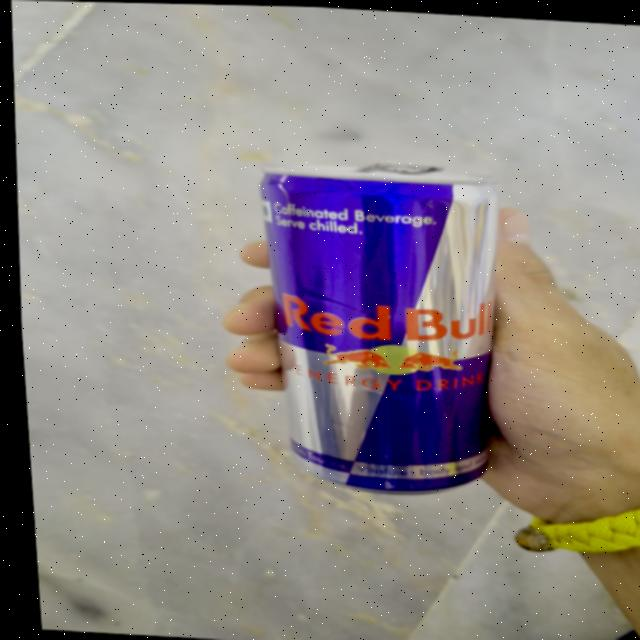Redbul: (241, 148, 523, 502)
